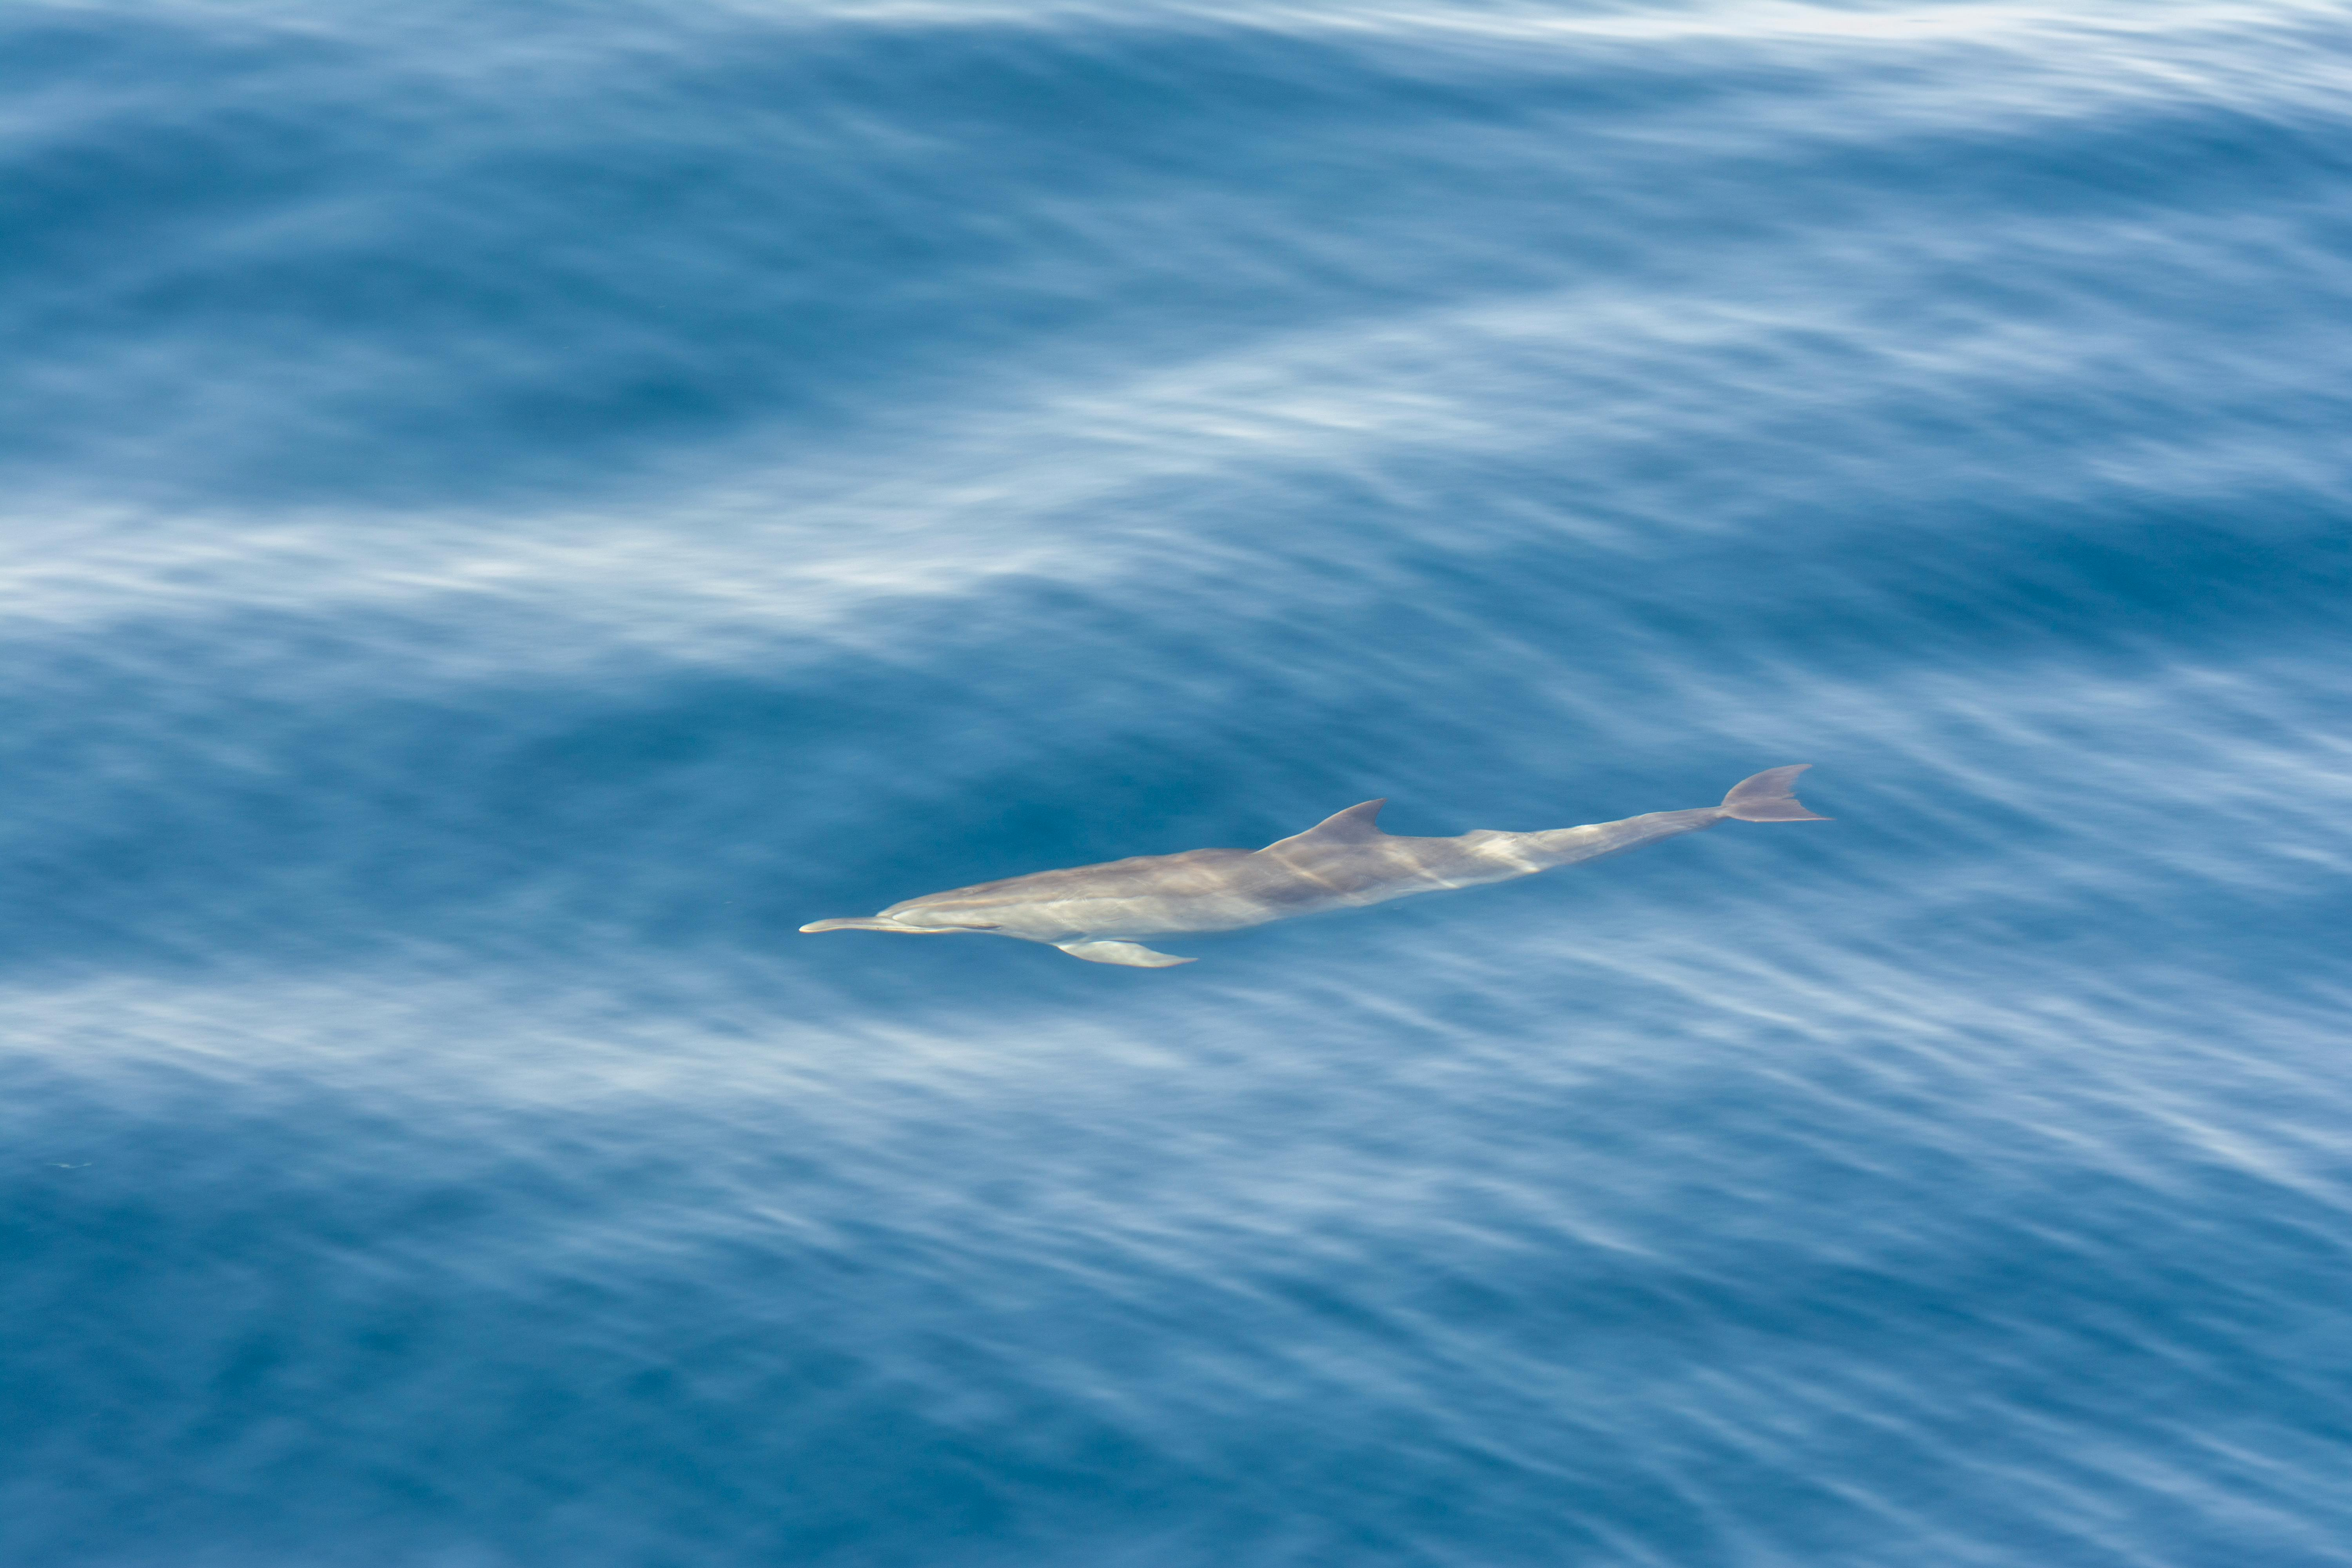dolphin: (786, 752, 1836, 970)
